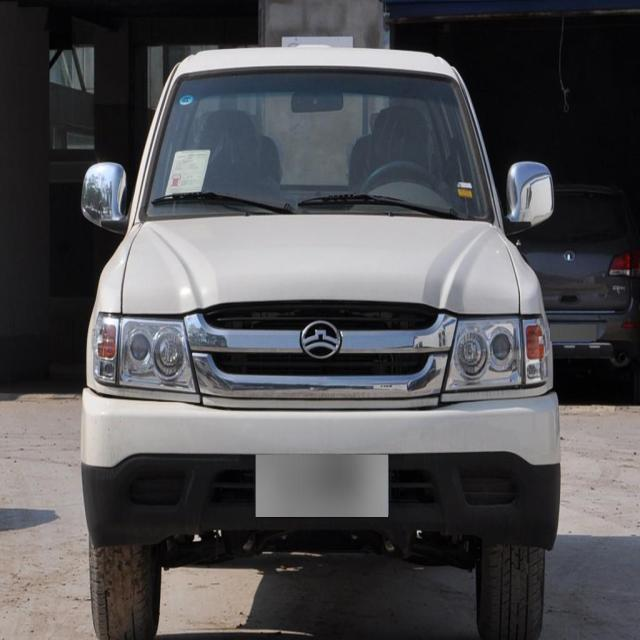front_bumper: (79, 385, 560, 553)
front_glass: (146, 67, 494, 223)
front_left_side_light: (442, 310, 550, 401)
front_left_side_mirror: (501, 158, 555, 234)
front_right_side_light: (89, 303, 203, 406)
front_right_side_mirror: (81, 158, 130, 234)
wheel: (86, 543, 161, 640), (476, 539, 546, 640)
